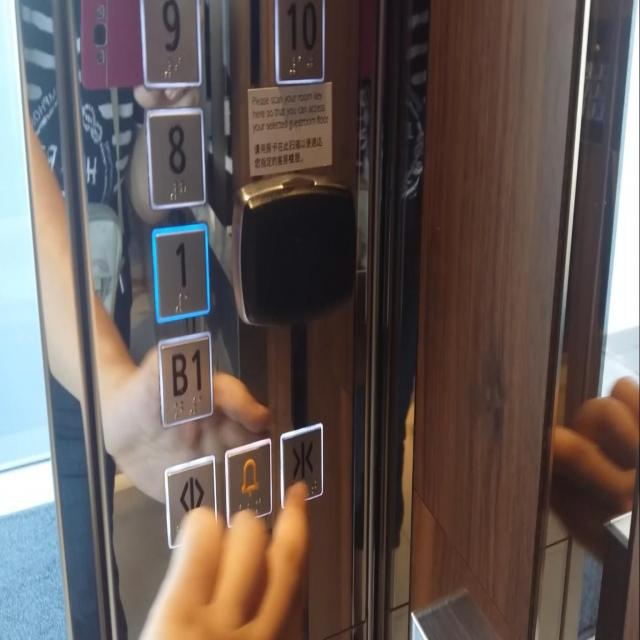1: (151, 222, 211, 322)
10: (273, 0, 324, 83)
8: (145, 105, 207, 211)
9: (138, 0, 201, 89)
B1: (157, 330, 213, 428)
alarm: (224, 437, 272, 528)
close: (278, 421, 324, 509)
open: (163, 453, 218, 548)
